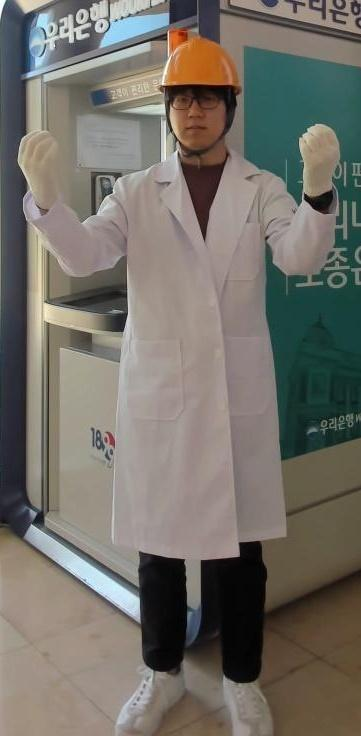lab_coat: (101, 167, 290, 556)
